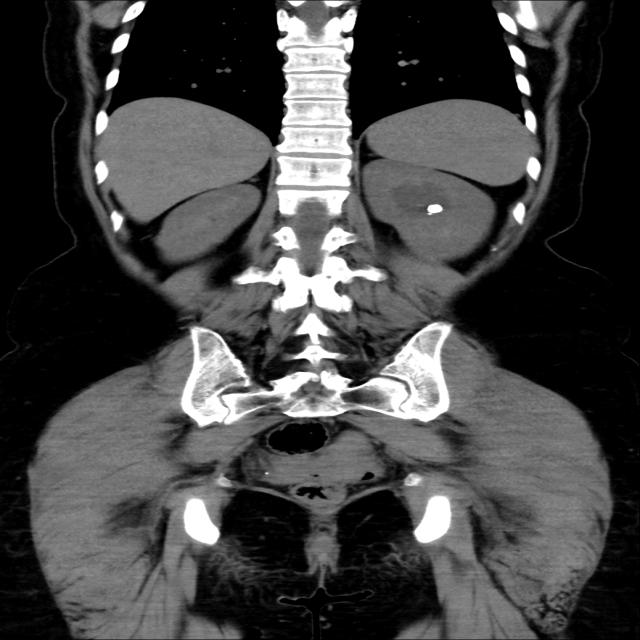kidneystone: (427, 204, 442, 214)
